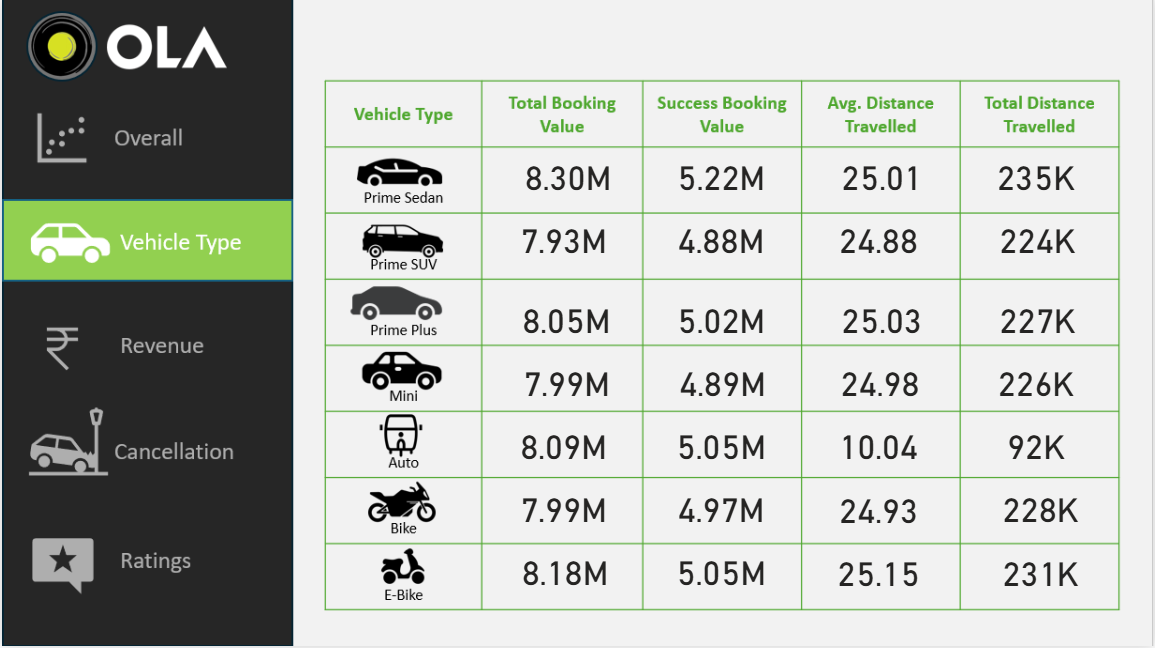

This screenshot's page, from the dashboard's own definition file:
{"tool":"powerbi","page":{"name":"Vehicle Type","canvas":[1280,720],"ordinal":1},"visuals":[{"type":"card","fields":{"Values":["Sum(July.Booking_Value)"]},"box":[562,162,134,70],"z":0},{"type":"card","fields":{"Values":["Sum(July.Booking_Value)"]},"box":[560,390,134,70],"z":1000},{"type":"card","fields":{"Values":["Sum(July.Booking_Value)"]},"box":[556,460,134,70],"z":2000},{"type":"card","fields":{"Values":["Sum(July.Booking_Value)"]},"box":[556,530,134,70],"z":3000},{"type":"card","fields":{"Values":["Sum(July.Booking_Value)"]},"box":[558,600,134,70],"z":4000},{"type":"card","fields":{"Values":["Sum(July.Booking_Value)"]},"box":[556,232,134,70],"z":5000},{"type":"card","fields":{"Values":["Sum(July.Booking_Value)"]},"box":[560,320,134,70],"z":6000},{"type":"card","fields":{"Values":["Sum(July.Booking_Value)"]},"box":[732,162,134,70],"z":7000},{"type":"card","fields":{"Values":["Sum(July.Booking_Value)"]},"box":[732,232,134,70],"z":8000},{"type":"card","fields":{"Values":["Sum(July.Booking_Value)"]},"box":[732,320,134,70],"z":9000},{"type":"card","fields":{"Values":["Sum(July.Booking_Value)"]},"box":[734,390,134,70],"z":10000},{"type":"card","fields":{"Values":["Sum(July.Booking_Value)"]},"box":[732,460,134,70],"z":11000},{"type":"card","fields":{"Values":["Sum(July.Booking_Value)"]},"box":[732,530,134,70],"z":12000},{"type":"card","fields":{"Values":["Sum(July.Booking_Value)"]},"box":[732,600,134,70],"z":13000},{"type":"card","fields":{"Values":["Avg(July.Ride_Distance)"]},"box":[910,320,134,70],"z":14000},{"type":"card","fields":{"Values":["Avg(July.Ride_Distance)"]},"box":[908,390,134,70],"z":15000},{"type":"card","fields":{"Values":["Avg(July.Ride_Distance)"]},"box":[906,460,134,70],"z":16000},{"type":"card","fields":{"Values":["Avg(July.Ride_Distance)"]},"box":[906,532,134,70],"z":17000},{"type":"card","fields":{"Values":["Avg(July.Ride_Distance)"]},"box":[906,602,134,70],"z":18000},{"type":"card","fields":{"Values":["Avg(July.Ride_Distance)"]},"box":[910,162,134,70],"z":19000},{"type":"card","fields":{"Values":["Avg(July.Ride_Distance)"]},"box":[906,232,134,70],"z":20000},{"type":"card","fields":{"Values":["Sum(July.Ride_Distance)"]},"box":[1082,162,134,70],"z":21000},{"type":"card","fields":{"Values":["Sum(July.Ride_Distance)"]},"box":[1084,232,134,70],"z":22000},{"type":"card","fields":{"Values":["Sum(July.Ride_Distance)"]},"box":[1084,320,134,70],"z":23000},{"type":"card","fields":{"Values":["Sum(July.Ride_Distance)"]},"box":[1082,390,134,70],"z":24000},{"type":"card","fields":{"Values":["Sum(July.Ride_Distance)"]},"box":[1082,460,134,70],"z":25000},{"type":"card","fields":{"Values":["Sum(July.Ride_Distance)"]},"box":[1086,530,134,70],"z":26000},{"type":"card","fields":{"Values":["Sum(July.Ride_Distance)"]},"box":[1086,602,134,70],"z":27000}]}

Visuals, with their boxes on the page's 1280x720 design canvas (x1, y1, x2, y2). These are canvas units, not pixel positions in the 1155x648 screenshot, which may show the page scaled, cropped or inside an application window:
card - Sum(July.Booking_Value): crop(562, 162, 696, 232)
card - Sum(July.Booking_Value): crop(560, 390, 694, 460)
card - Sum(July.Booking_Value): crop(556, 460, 690, 530)
card - Sum(July.Booking_Value): crop(556, 530, 690, 600)
card - Sum(July.Booking_Value): crop(558, 600, 692, 670)
card - Sum(July.Booking_Value): crop(556, 232, 690, 302)
card - Sum(July.Booking_Value): crop(560, 320, 694, 390)
card - Sum(July.Booking_Value): crop(732, 162, 866, 232)
card - Sum(July.Booking_Value): crop(732, 232, 866, 302)
card - Sum(July.Booking_Value): crop(732, 320, 866, 390)
card - Sum(July.Booking_Value): crop(734, 390, 868, 460)
card - Sum(July.Booking_Value): crop(732, 460, 866, 530)
card - Sum(July.Booking_Value): crop(732, 530, 866, 600)
card - Sum(July.Booking_Value): crop(732, 600, 866, 670)
card - Avg(July.Ride_Distance): crop(910, 320, 1044, 390)
card - Avg(July.Ride_Distance): crop(908, 390, 1042, 460)
card - Avg(July.Ride_Distance): crop(906, 460, 1040, 530)
card - Avg(July.Ride_Distance): crop(906, 532, 1040, 602)
card - Avg(July.Ride_Distance): crop(906, 602, 1040, 672)
card - Avg(July.Ride_Distance): crop(910, 162, 1044, 232)
card - Avg(July.Ride_Distance): crop(906, 232, 1040, 302)
card - Sum(July.Ride_Distance): crop(1082, 162, 1216, 232)
card - Sum(July.Ride_Distance): crop(1084, 232, 1218, 302)
card - Sum(July.Ride_Distance): crop(1084, 320, 1218, 390)
card - Sum(July.Ride_Distance): crop(1082, 390, 1216, 460)
card - Sum(July.Ride_Distance): crop(1082, 460, 1216, 530)
card - Sum(July.Ride_Distance): crop(1086, 530, 1220, 600)
card - Sum(July.Ride_Distance): crop(1086, 602, 1220, 672)
